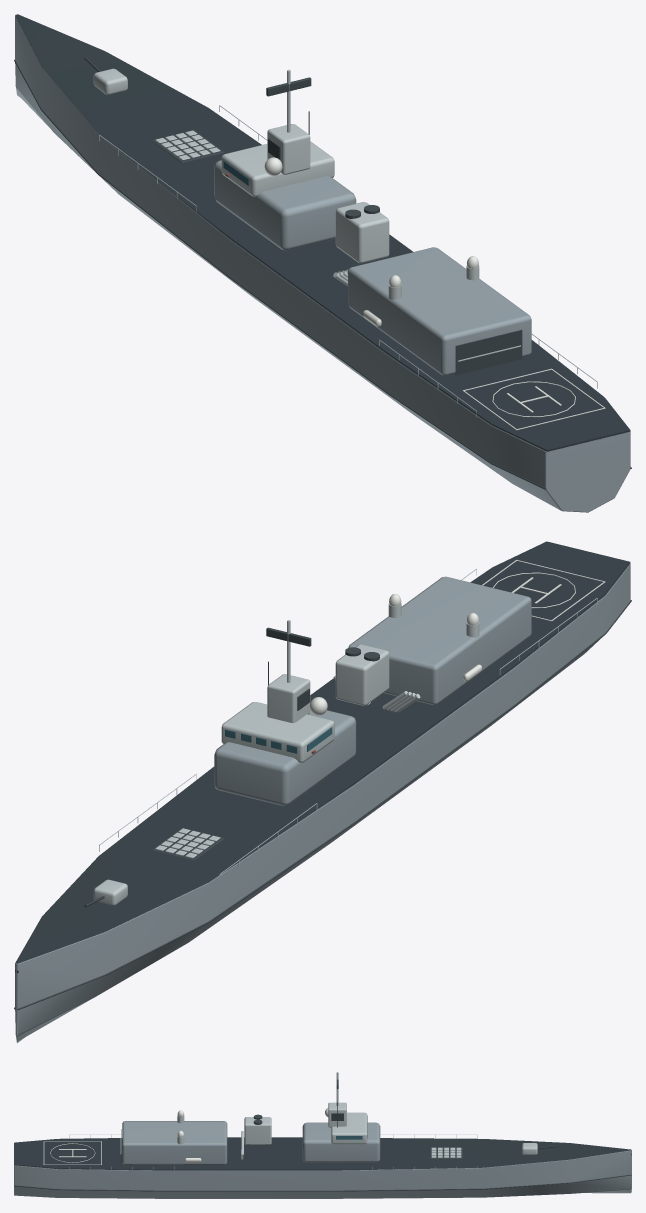
Rendered from generic-destroyer.glb.
3 views of the same model, one above another, from view 1: azimuth 30°, elevation 25°; view 2: azimuth 150°, elevation 25°; view 3: azimuth 270°, elevation 25° (orthographic). The views are drawn at different scales.
Parts seen in each view (by area): view 1: destroyer_Hull, destroyer_MainDeck, destroyer_AftHangar, destroyer_Superstructure, destroyer_Bridge, destroyer_Funnel, destroyer_HangarDoor, destroyer_MastBase, destroyer_ForwardGun, destroyer_VLSRecess; view 2: destroyer_Hull, destroyer_MainDeck, destroyer_AftHangar, destroyer_Superstructure, destroyer_Bridge, destroyer_Funnel, destroyer_MastBase, destroyer_VLSRecess, destroyer_ForwardGun; view 3: destroyer_Hull, destroyer_MainDeck, destroyer_AftHangar, destroyer_Superstructure, destroyer_Bridge, destroyer_Funnel, destroyer_MastBase, destroyer_Waterline.008, destroyer_Waterline.009, destroyer_VLSRecess.
Boxes of the visible parts, x1,y1,x2,y2 form: destroyer_Hull: (15, 14, 630, 512); destroyer_MainDeck: (165, 174, 630, 452); destroyer_AftHangar: (348, 247, 531, 375); destroyer_Superstructure: (214, 160, 356, 250); destroyer_Bridge: (221, 141, 334, 196); destroyer_Funnel: (335, 202, 389, 263); destroyer_HangarDoor: (455, 329, 522, 375); destroyer_MastBase: (267, 124, 310, 174); destroyer_ForwardGun: (93, 68, 127, 94); destroyer_VLSRecess: (151, 130, 224, 162); destroyer_Hull: (15, 563, 630, 1043); destroyer_MainDeck: (15, 541, 630, 972); destroyer_AftHangar: (348, 576, 531, 704); destroyer_Superstructure: (214, 710, 356, 805); destroyer_Bridge: (221, 702, 334, 762); destroyer_Funnel: (335, 644, 389, 705); destroyer_MastBase: (267, 674, 310, 723); destroyer_VLSRecess: (152, 827, 224, 860); destroyer_ForwardGun: (93, 879, 127, 905); destroyer_Hull: (14, 1138, 631, 1198); destroyer_MainDeck: (14, 1137, 631, 1170); destroyer_AftHangar: (122, 1121, 227, 1164); destroyer_Superstructure: (302, 1122, 380, 1162); destroyer_Bridge: (331, 1112, 367, 1144); destroyer_Funnel: (244, 1117, 271, 1144); destroyer_MastBase: (328, 1102, 346, 1127); destroyer_Waterline.008: (162, 1190, 334, 1191); destroyer_Waterline.009: (335, 1188, 483, 1191); destroyer_VLSRecess: (430, 1147, 462, 1159).
Bounding box in the file's own units: 20.24 × 34.1 × 158.
